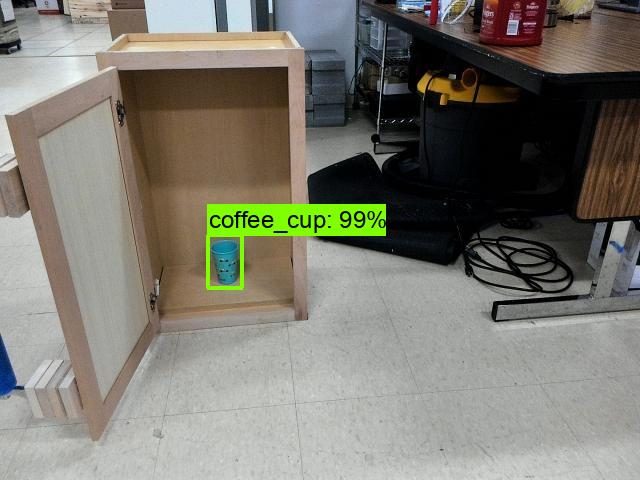coffee_cup: (208, 235, 242, 289)
